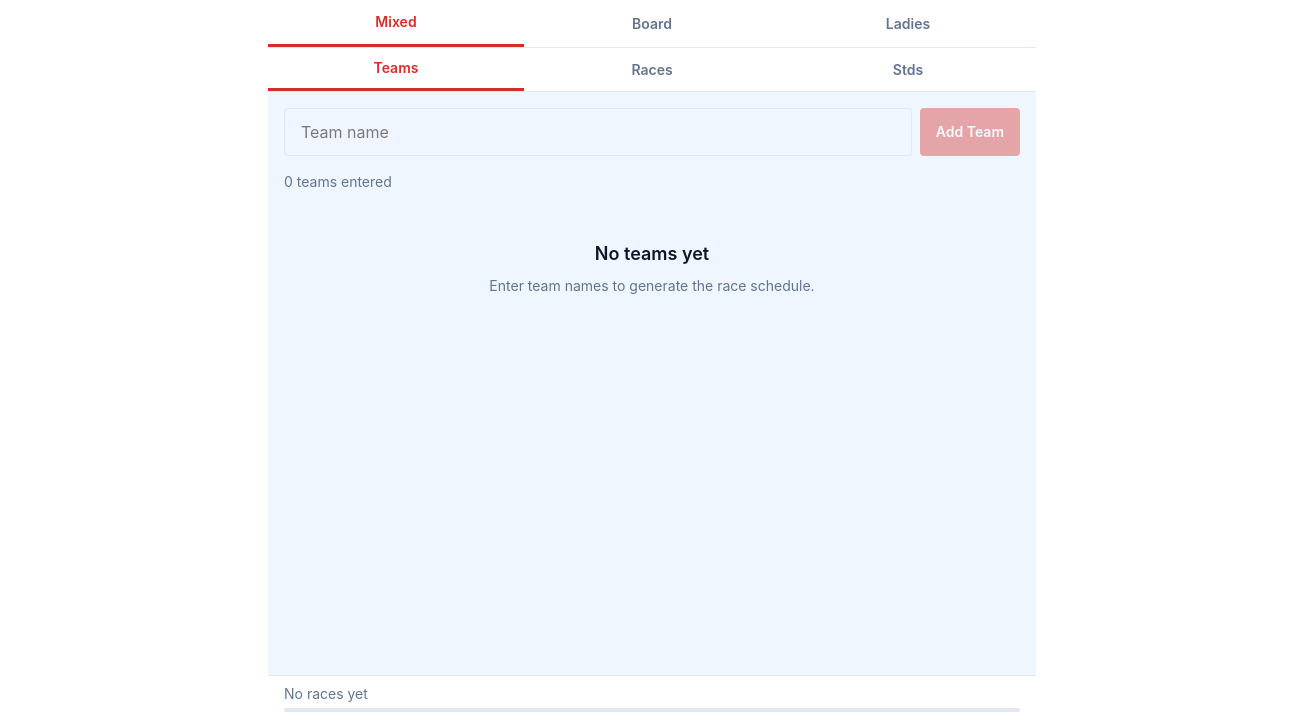
Test: AppShell discipline and tab in the URL › replaces the history entry rather than pushing one
Click the tab "Board". click: (652, 24)
box: [524, 0, 780, 47]
(page scrolled)
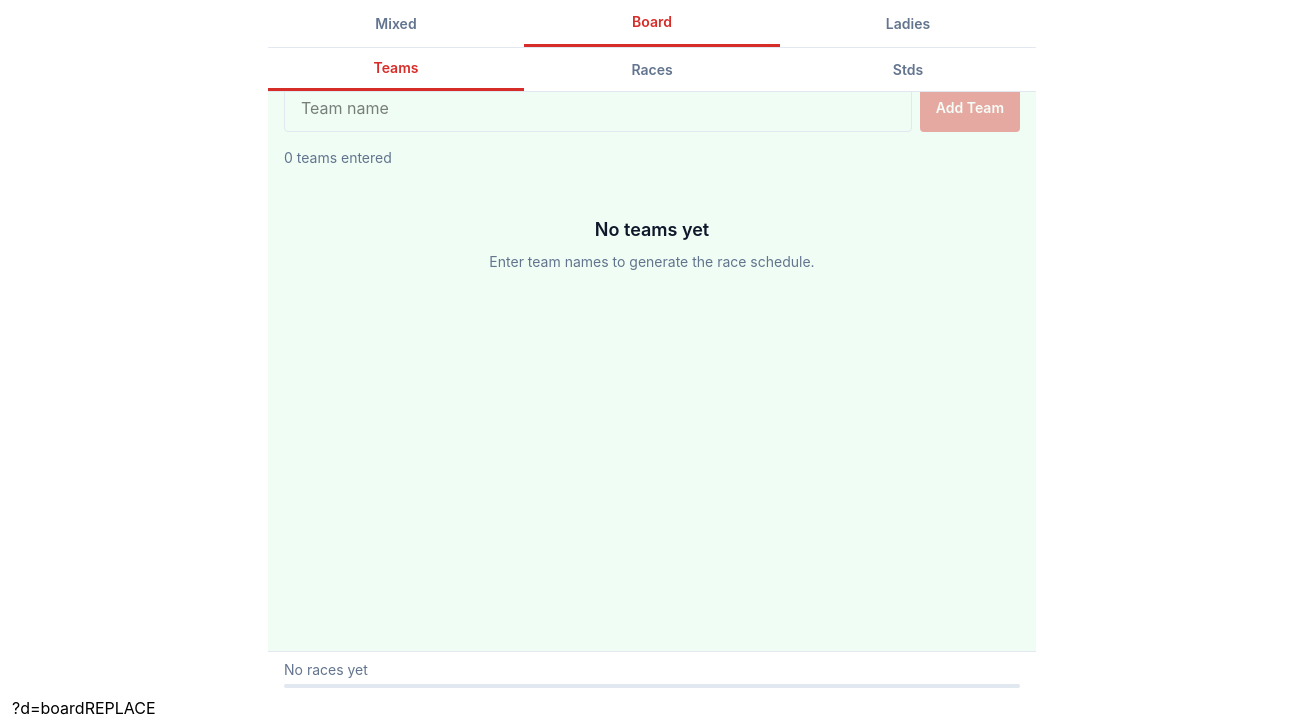
Now the text with test id "navigation-type" reads "REPLACE", box [85, 698, 156, 718]
